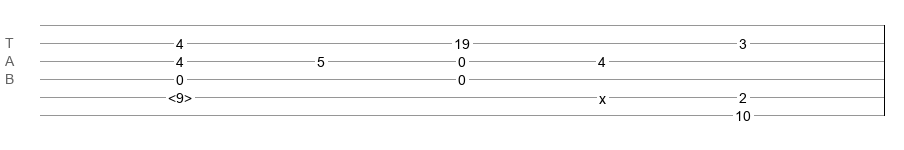0: (176, 72, 184, 82), (458, 54, 466, 64), (458, 72, 466, 82)
10: (735, 108, 751, 118)
19: (454, 36, 470, 46)
2: (739, 90, 747, 100)
3: (739, 36, 747, 46)
4: (176, 36, 184, 46), (176, 54, 184, 64), (598, 54, 606, 64)
5: (317, 54, 325, 64)
harmonic: (168, 90, 192, 100)
x: (599, 91, 606, 99)
